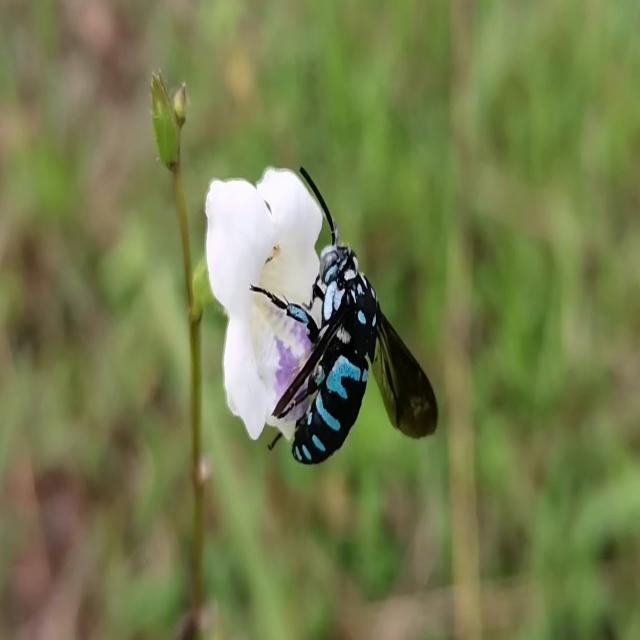Thyreus: (244, 156, 442, 493)
